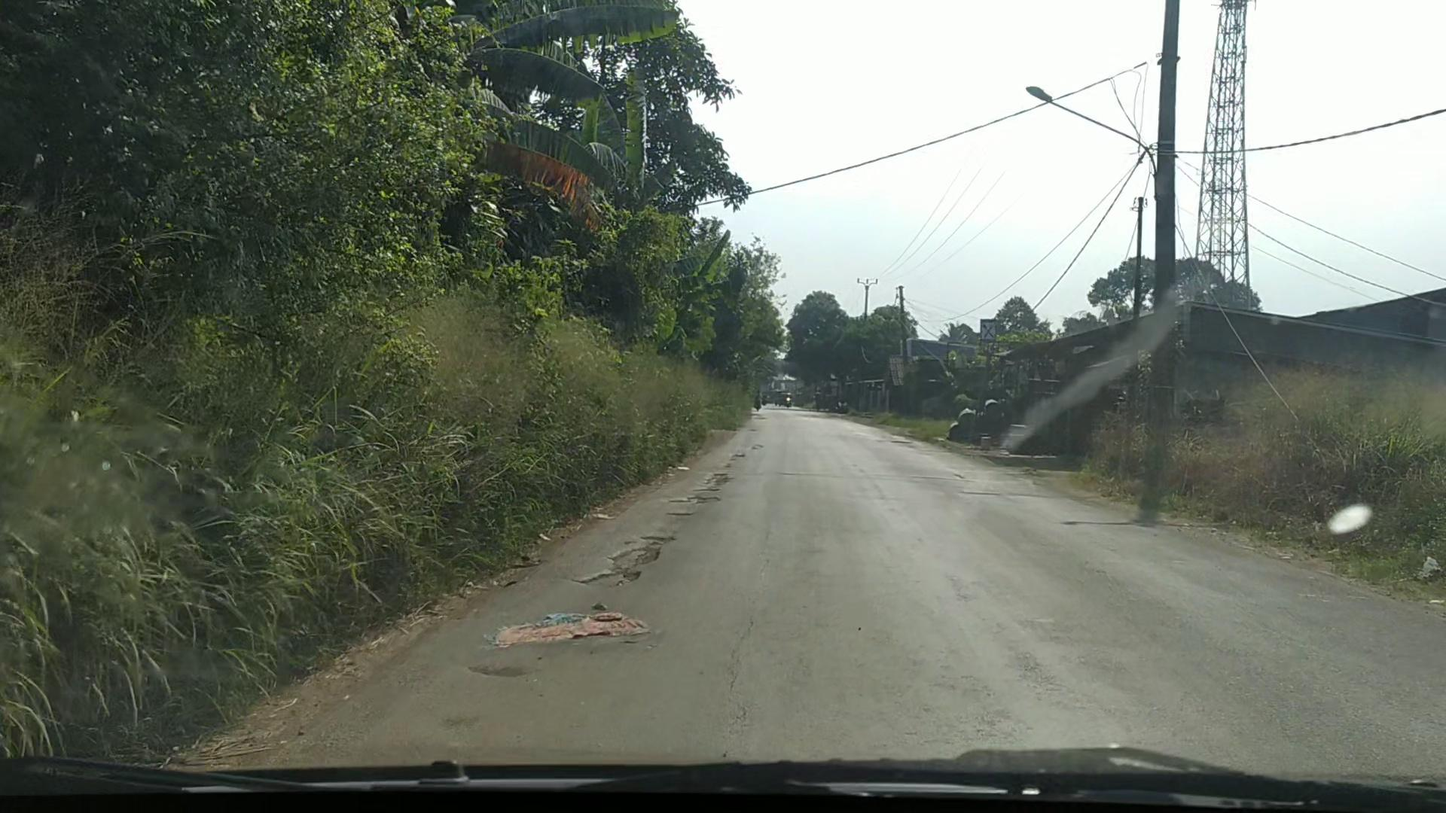pothole: (569, 534, 679, 588), (691, 472, 735, 492), (668, 494, 722, 505), (665, 511, 694, 518), (731, 453, 747, 459)
